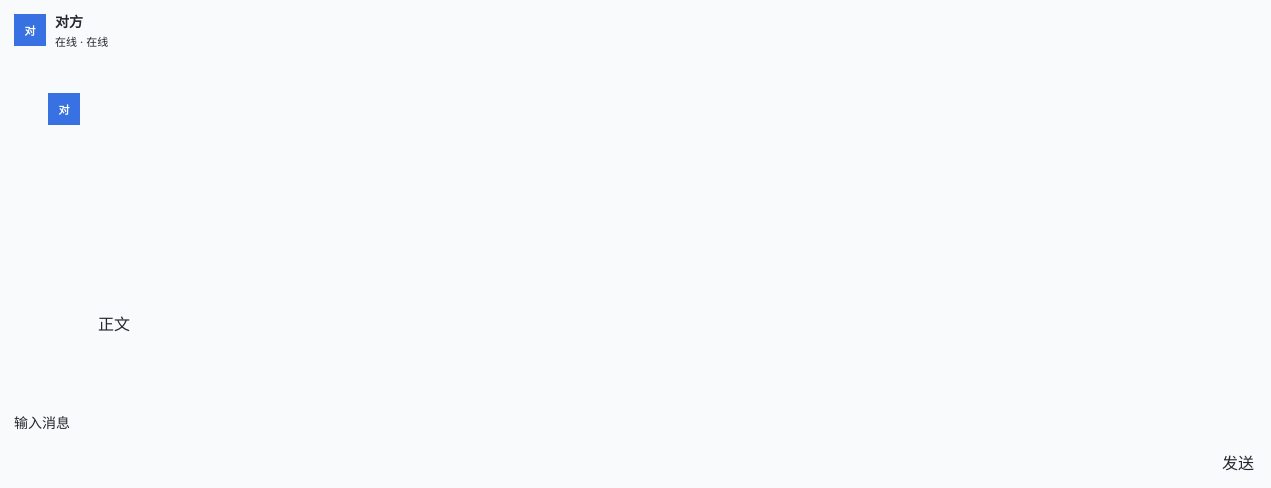
Test case: chat image and message interactions › dismisses pending menus after acknowledgement so they cannot read a released local preview
This screenshot has width=1271, height=488.
Right-click the text "正文".
right_click(114, 323)  # box [98, 311, 130, 335]
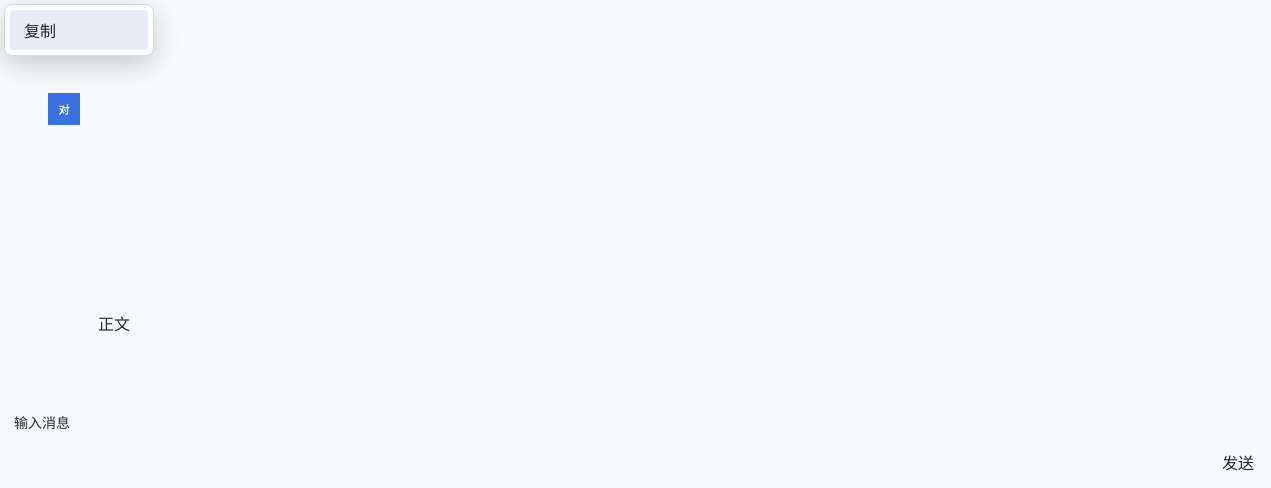
Check: the menu named "消息菜单" is shown, box [4, 4, 154, 56]
